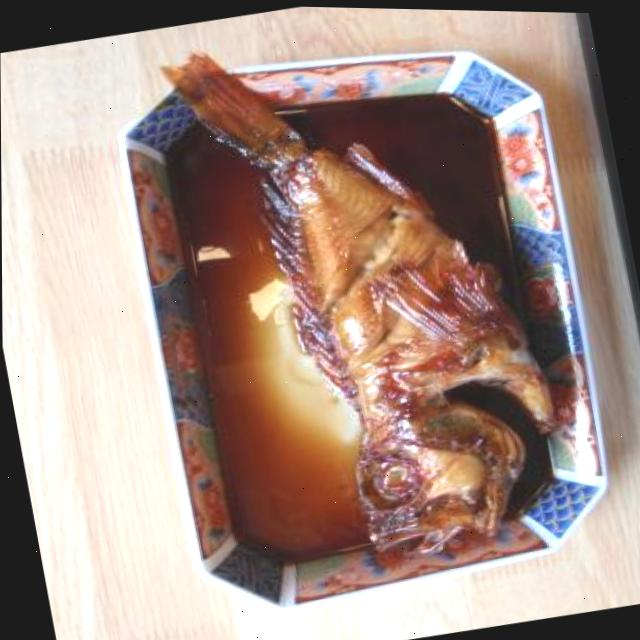熟制海鲜: (143, 2, 612, 640)
